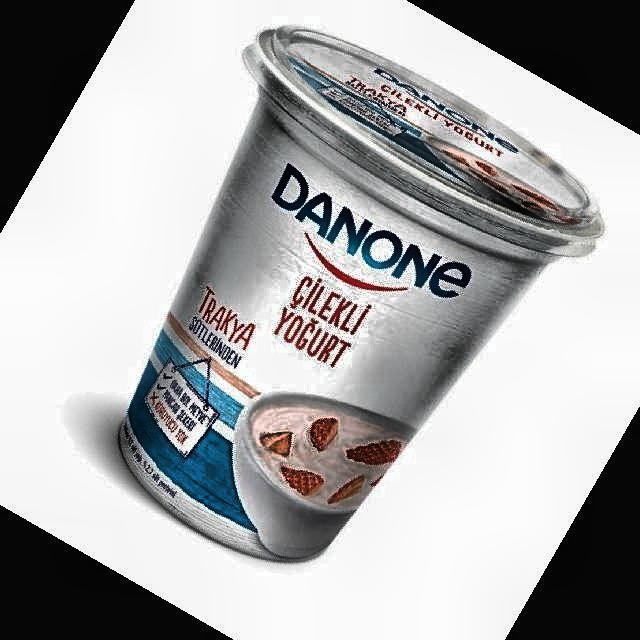plastic: (120, 28, 604, 558)
